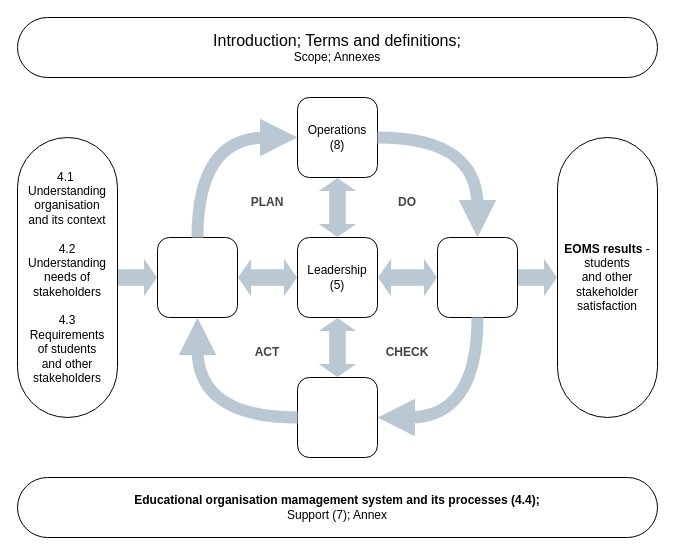
Image size: 675x555. Some labels were removed from this diagram. Here are the shapes that lost their labels. From the top down, the box of each, then its label:
(156, 236, 238, 318): Planning (5)
(436, 236, 518, 318): Performance evaluation (9)
(296, 376, 378, 458): Improvement (10)
